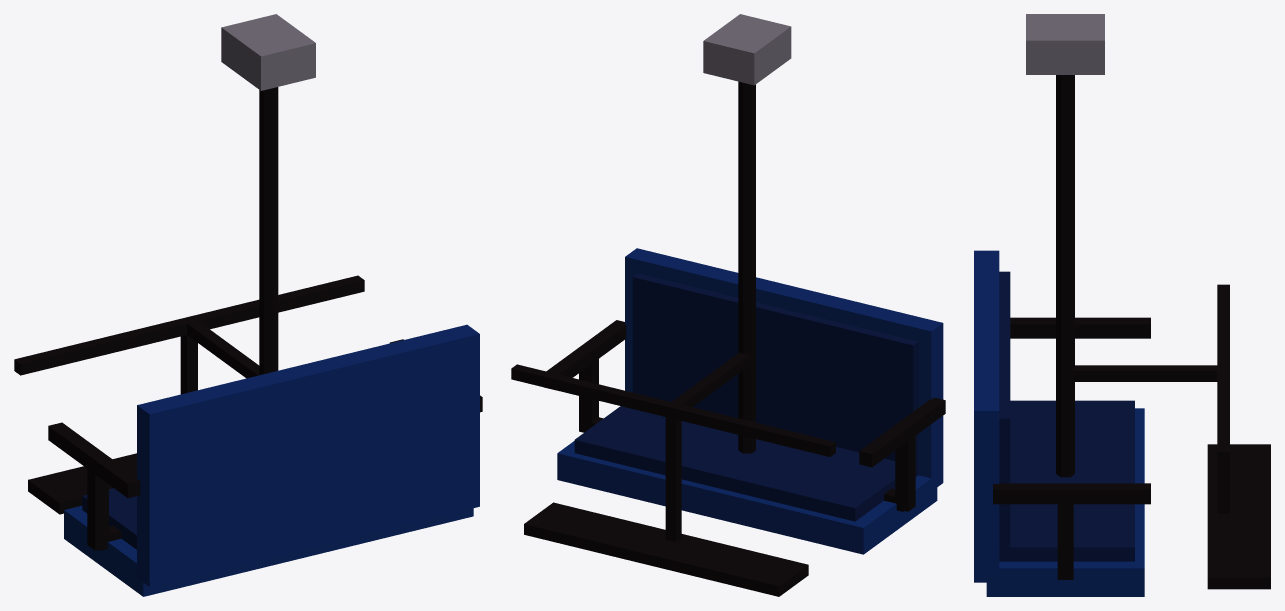
The model's file is rs_chair.glb.
3 views of the same model, side by side, from view 1: azimuth 30°, elevation 25°; view 2: azimuth 150°, elevation 25°; view 3: azimuth 270°, elevation 25° (orthographic). The views are drawn at different scales.
Parts seen in each view (by area): view 1: chair; view 2: chair; view 3: chair.
Part boxes in pixels (bbox=[...]): chair: bbox=[14, 14, 482, 596]; chair: bbox=[511, 14, 945, 596]; chair: bbox=[974, 14, 1270, 596].
Size of the model in its own units: 1.29 by 1.73 by 0.94.
